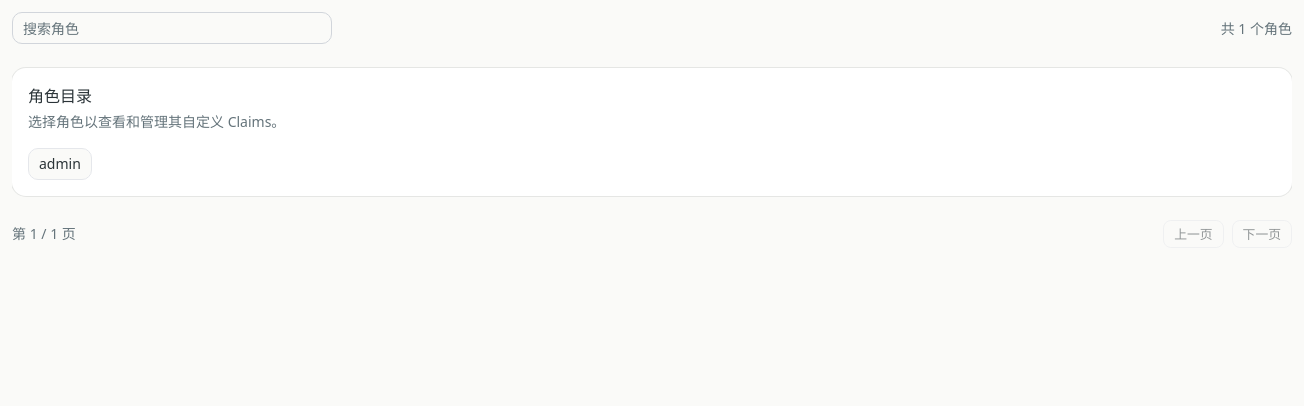
Test: RolesPage › does not restore Claims from a request superseded by removing the selected role
Click the button "admin". click: (60, 164)
box: [28, 148, 92, 180]
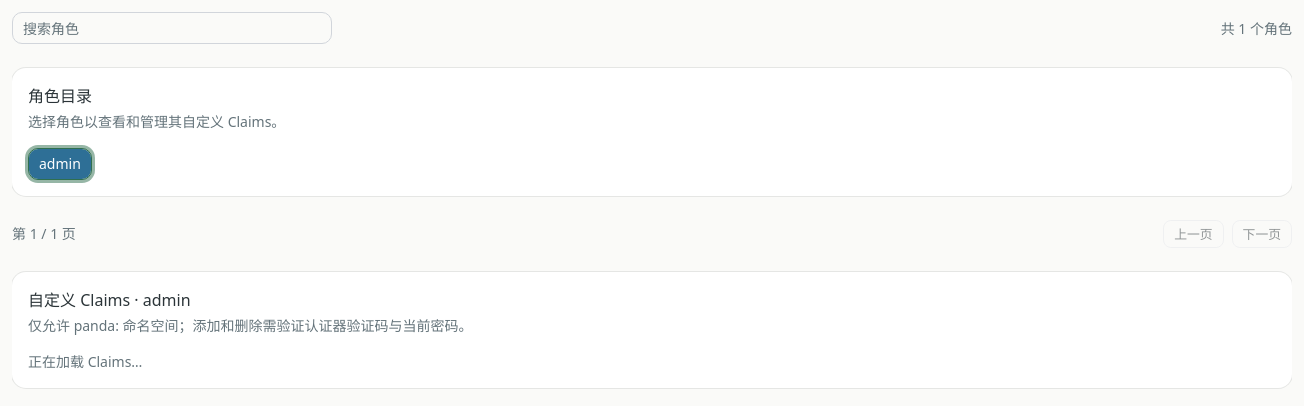
Type "removed" into the field labelled "搜索角色". click: (172, 28)
box: [12, 12, 332, 44]
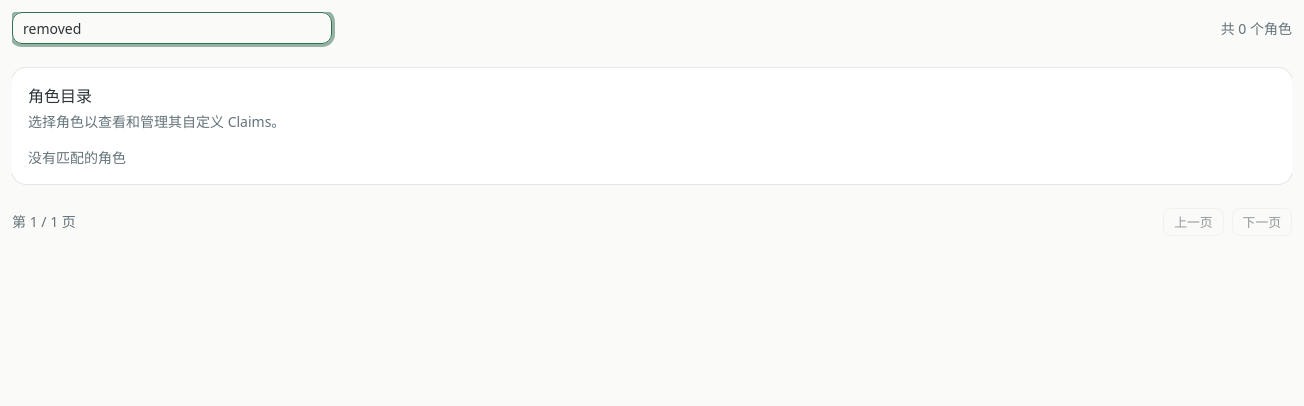
Expected: the text "自定义 Claims · admin" is gone
